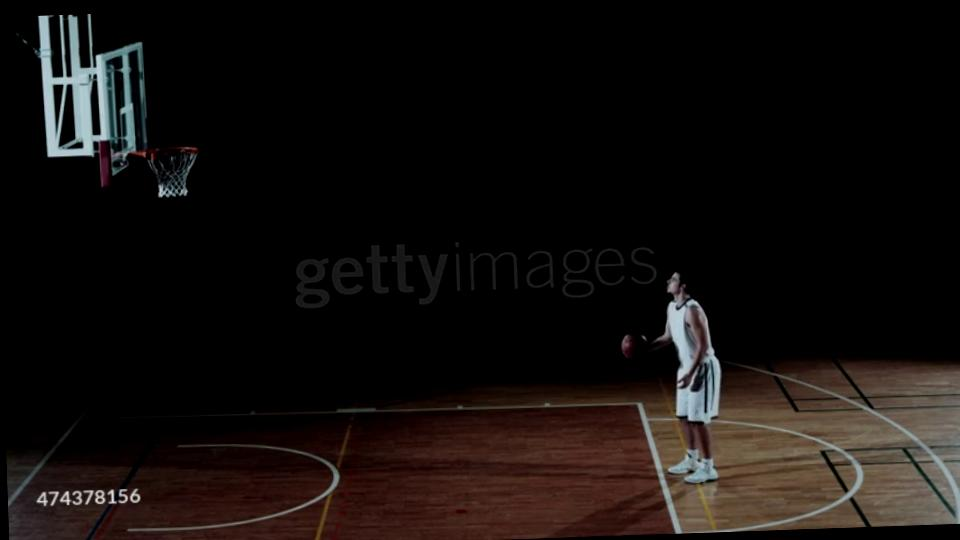hoop: (123, 138, 206, 164)
